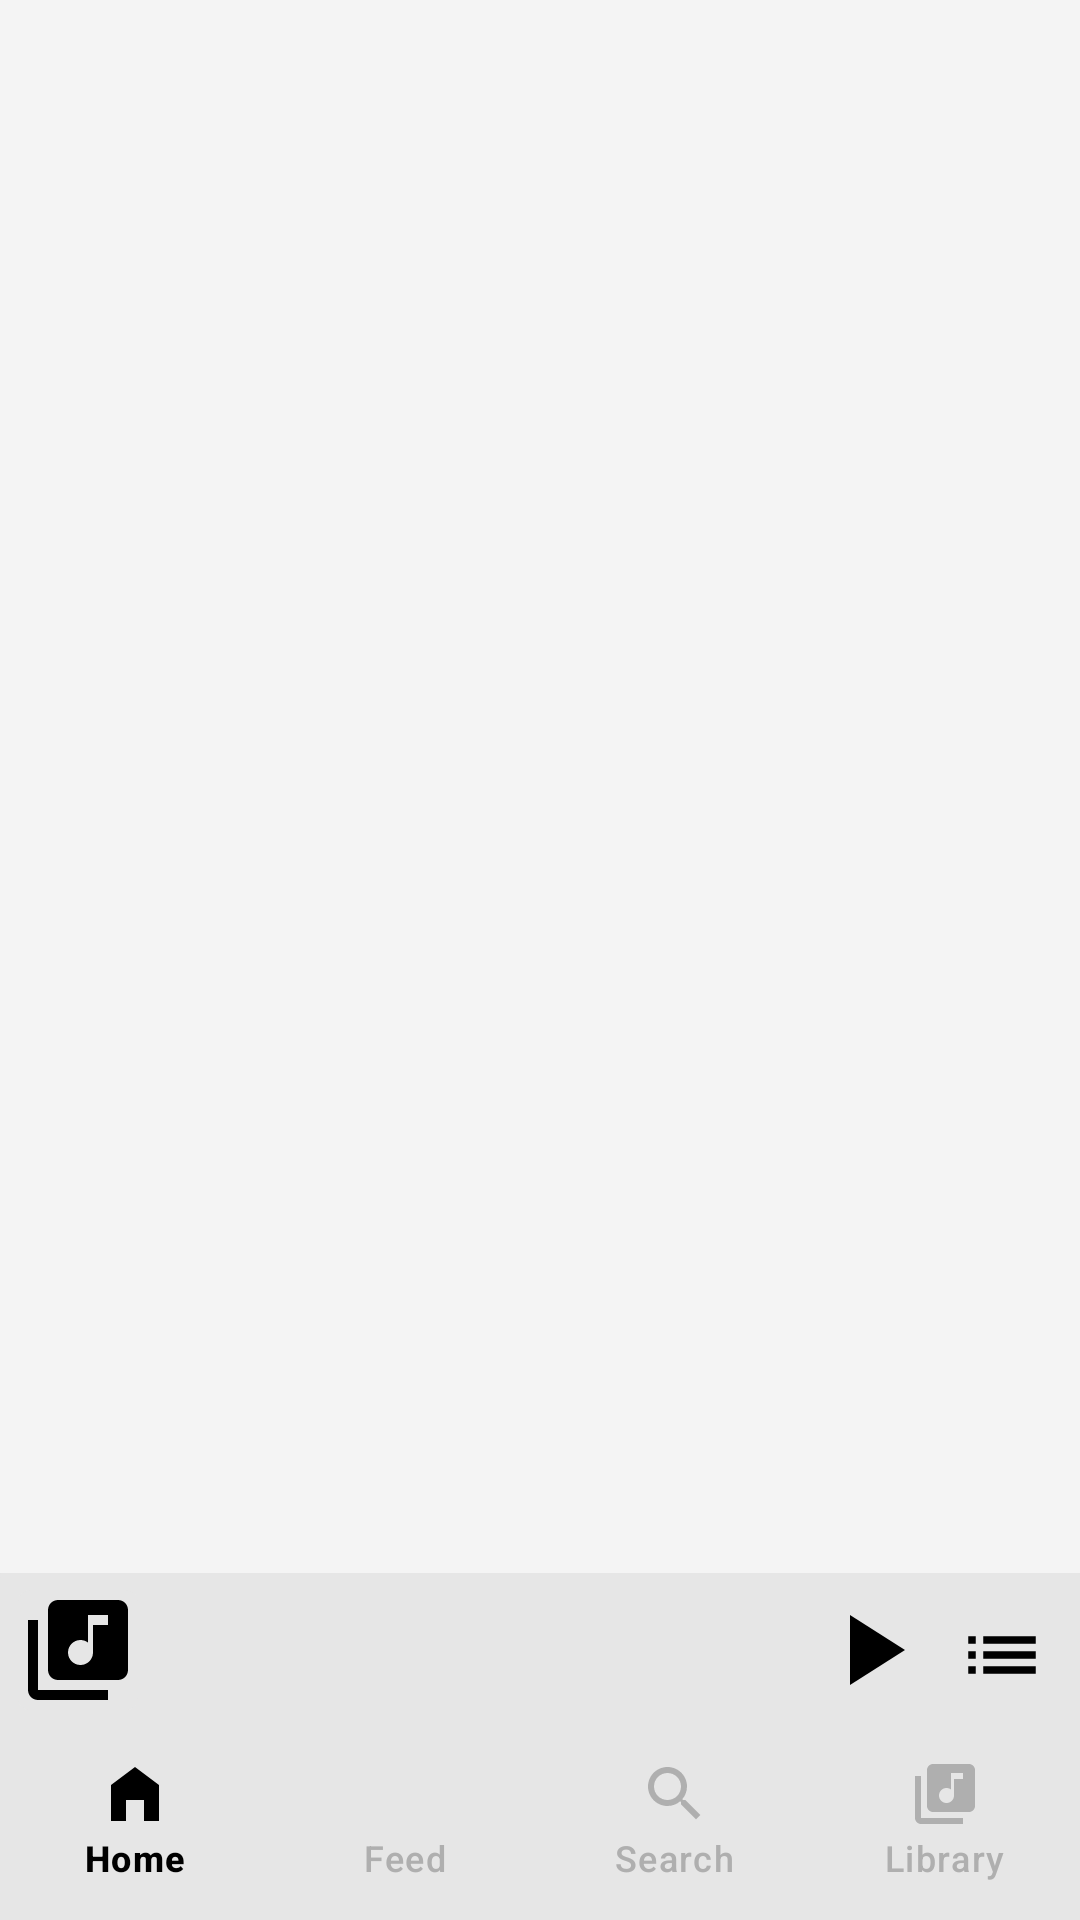

Icons on this 1080px×1920px Android screen, each with the point to tap as point (x, y):
library music: point (78, 1650)
list: point (1002, 1655)
play arrow: point (877, 1650)
